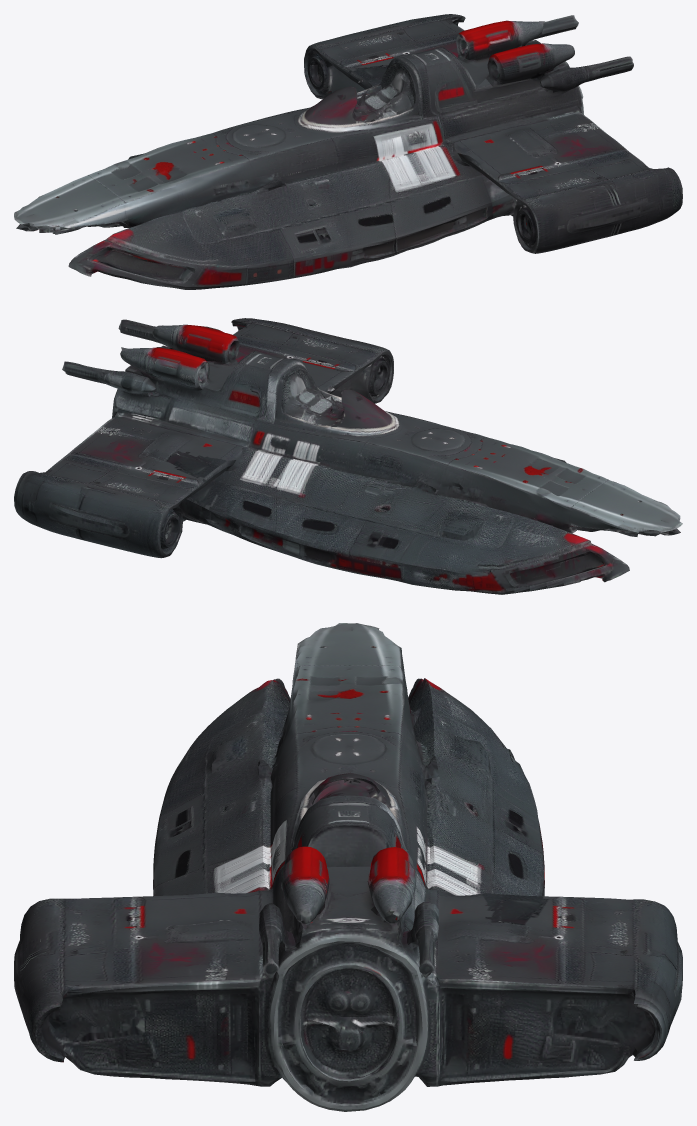
Rendered from ship13.glb.
3 renders of one model, top to bottom at view 1: azimuth 30°, elevation 25°; view 2: azimuth 150°, elevation 25°; view 3: azimuth 270°, elevation 25°, orthographic. The views are drawn at different scales.
Parts seen in each view (by area): view 1: Mesh0; view 2: Mesh0; view 3: Mesh0.
Part boxes in pixels (x1=…): Mesh0: x1=14, y1=14, x2=682, y2=289; Mesh0: x1=14, y1=318, x2=682, y2=594; Mesh0: x1=14, y1=623, x2=682, y2=1111.
Size of the model in its own units: 1.91 by 0.5168 by 1.36.
1 material, 1 textured.
